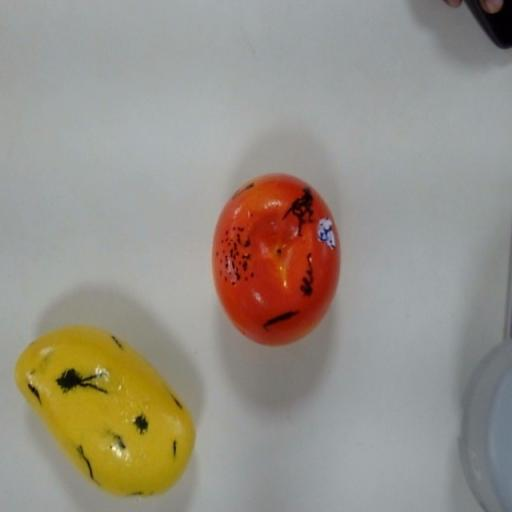Defective: (12, 319, 198, 502), (213, 165, 343, 352)
